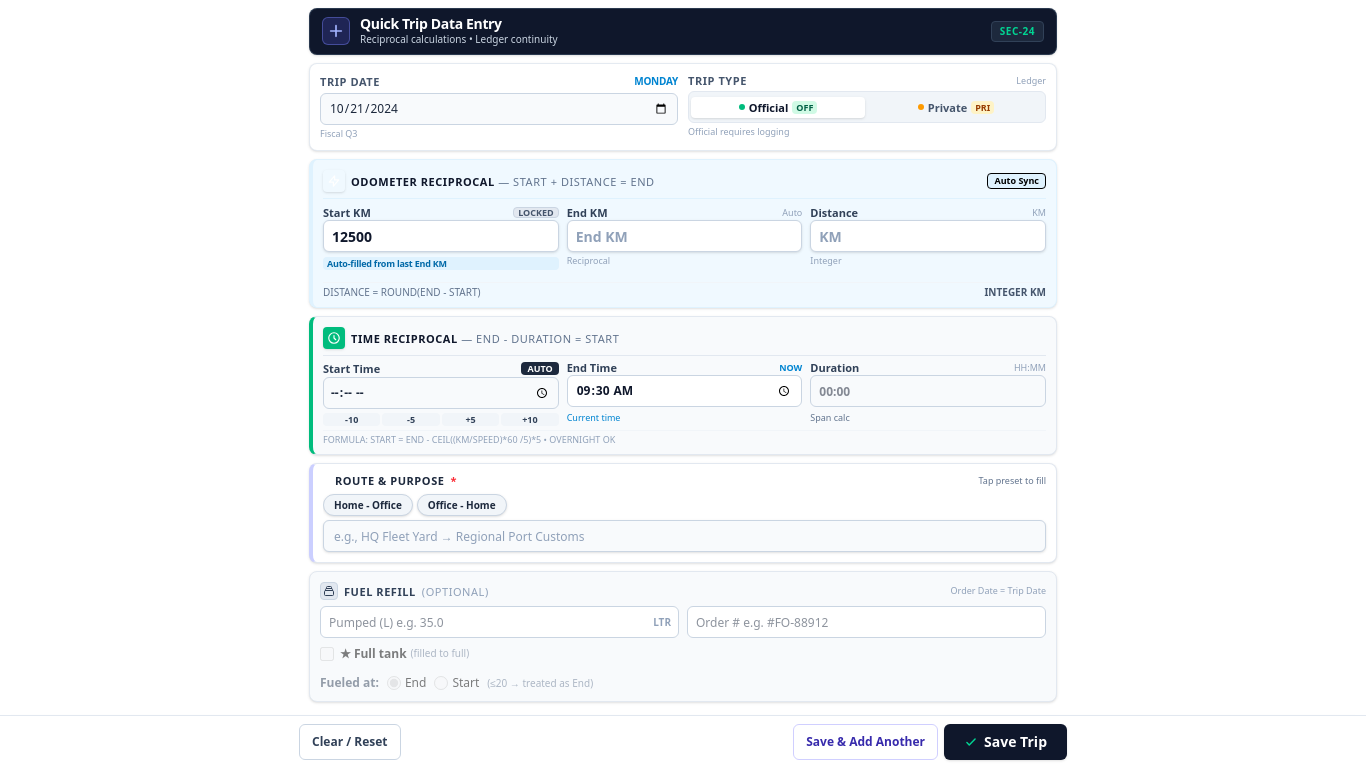
Test: QuickTripForm › reciprocal odometer: entering Trip Distance calculates End KM
Expected: the number field labelled "Start KM" holds "12500", [323,220,559,252]
In the number field named "Trip Distance": (928, 236) [810,220,1046,252], type "24"
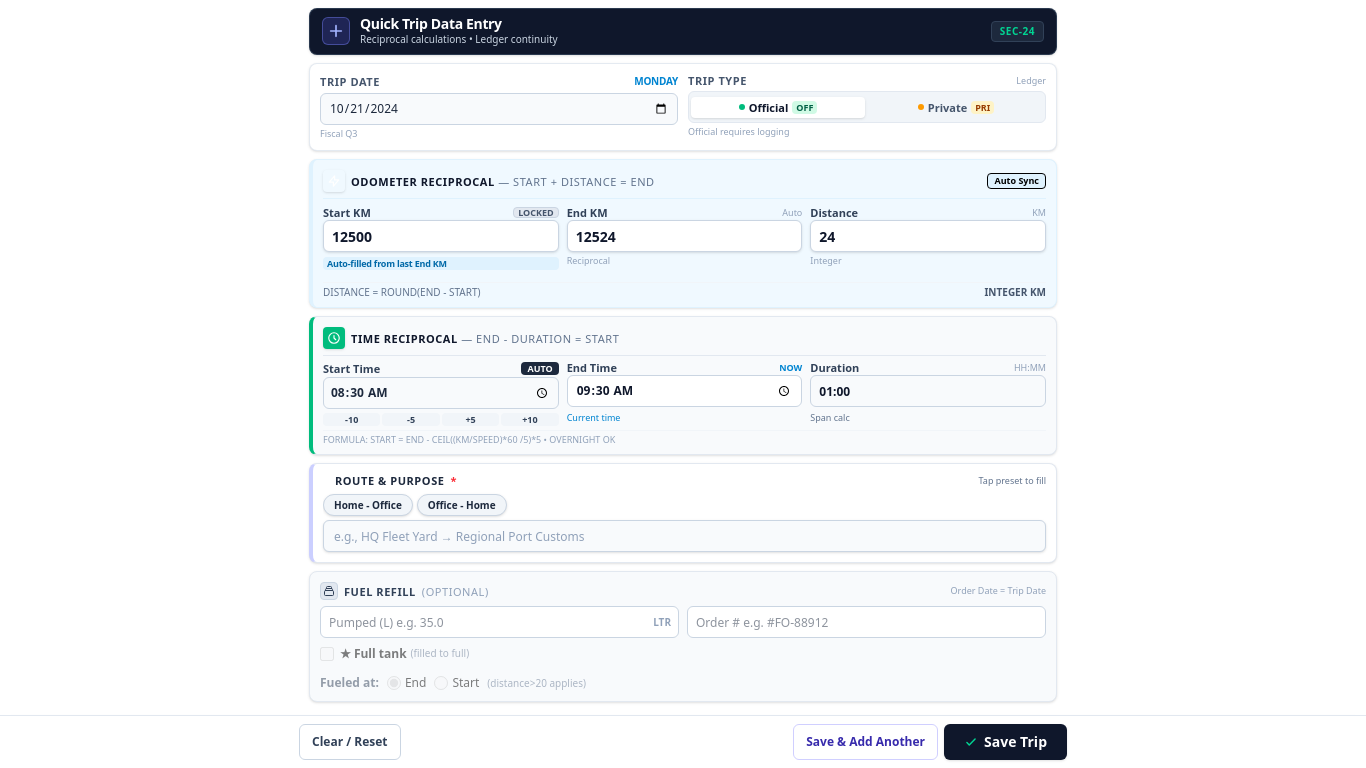
Result: the number field labelled "End KM" holds "12524" at [567,220,802,252]
